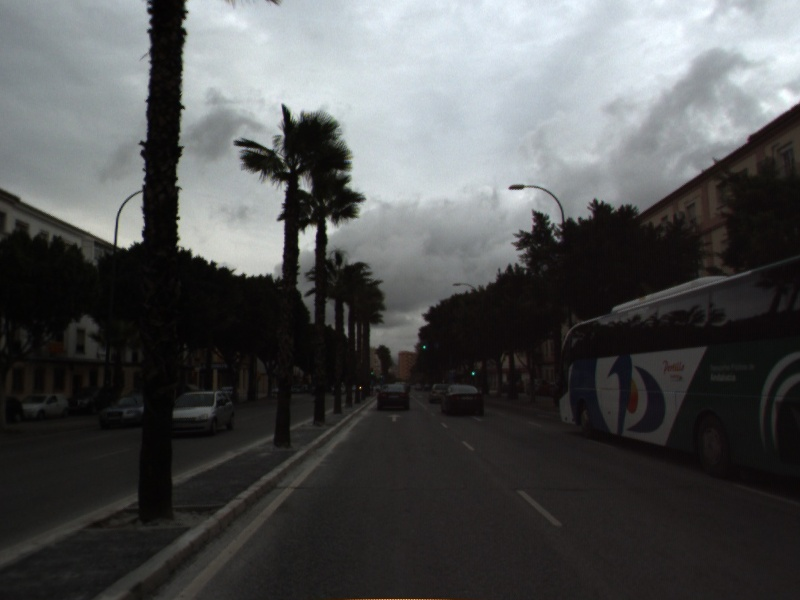STRAIGHT: (385, 411, 404, 423)
